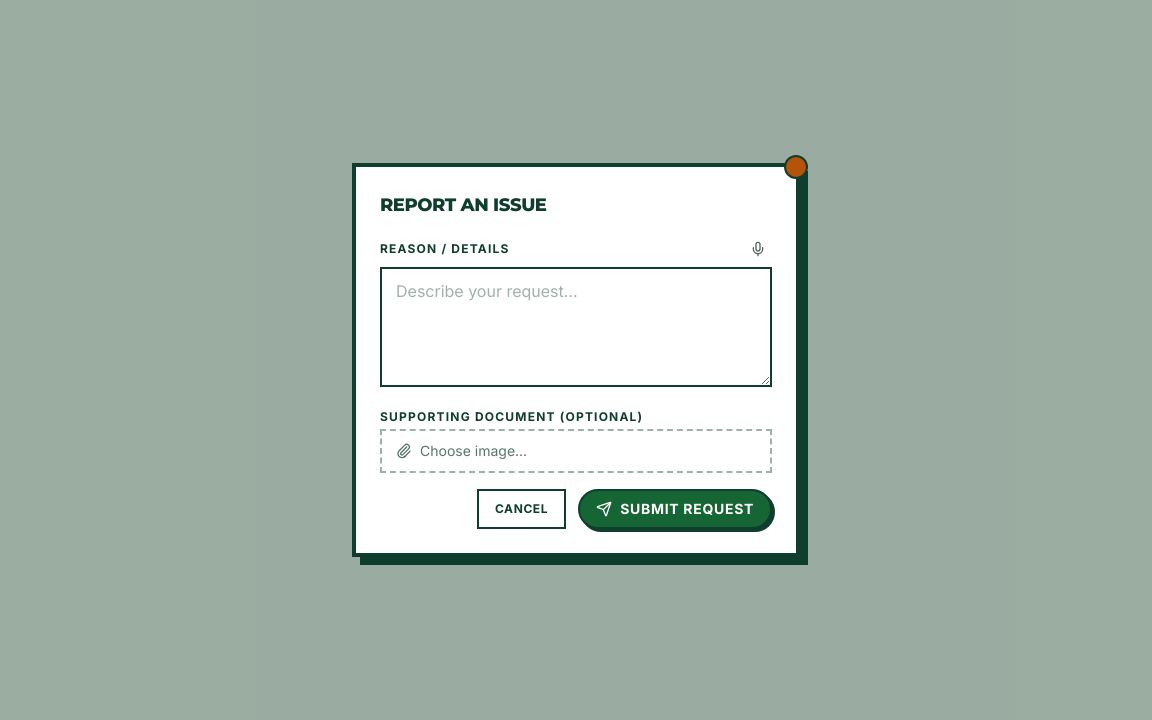
Test: ServiceRequestForm › shows an error message and stays open when the submission fails
Click the button "Submit Request" at (675, 509), box [578,489,772,529]
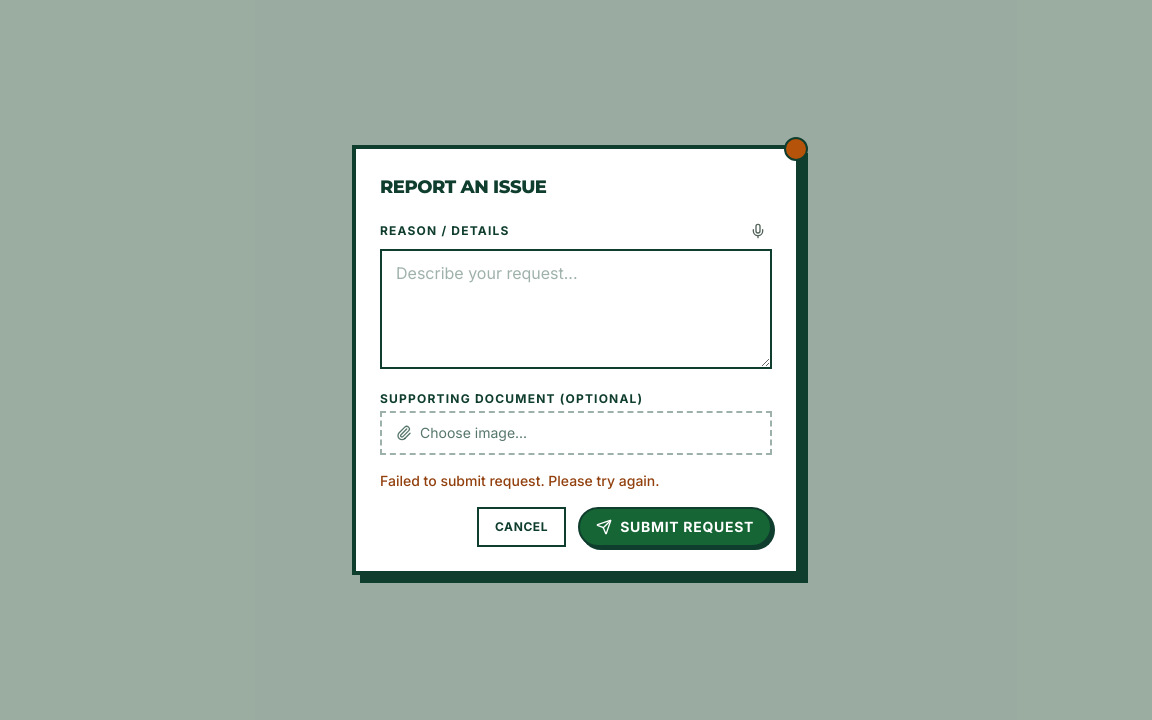
Result: the text "Failed to submit request. Please try again." is shown at [380,472,660,489]
